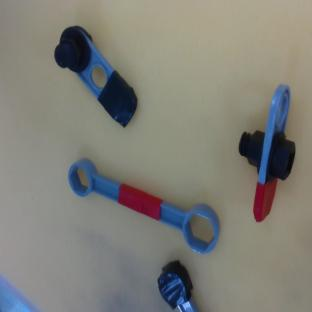part_1_bad: (44, 20, 153, 129)
part_1_good: (232, 84, 303, 223)
part_3_bad: (153, 258, 199, 312)
part_3_good: (59, 151, 229, 257)
